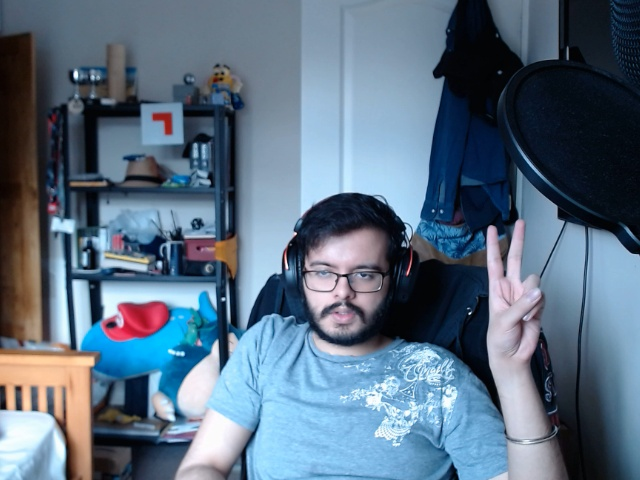Peace: (479, 208, 552, 377)
